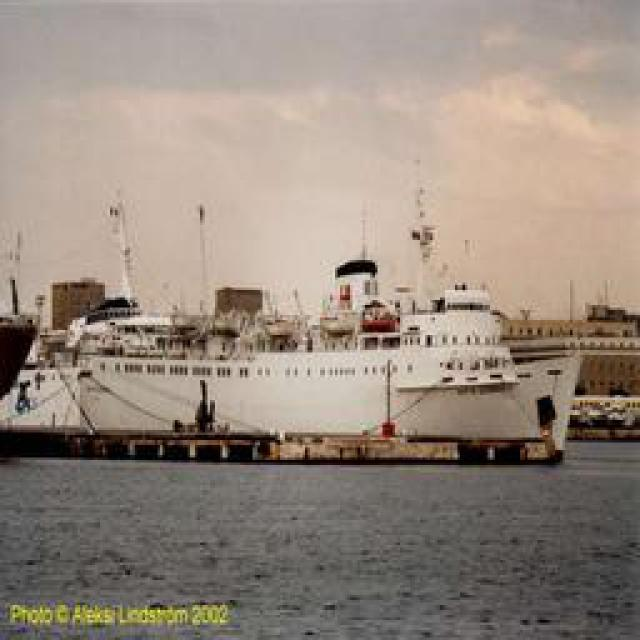Ship: (1, 266, 585, 459)
